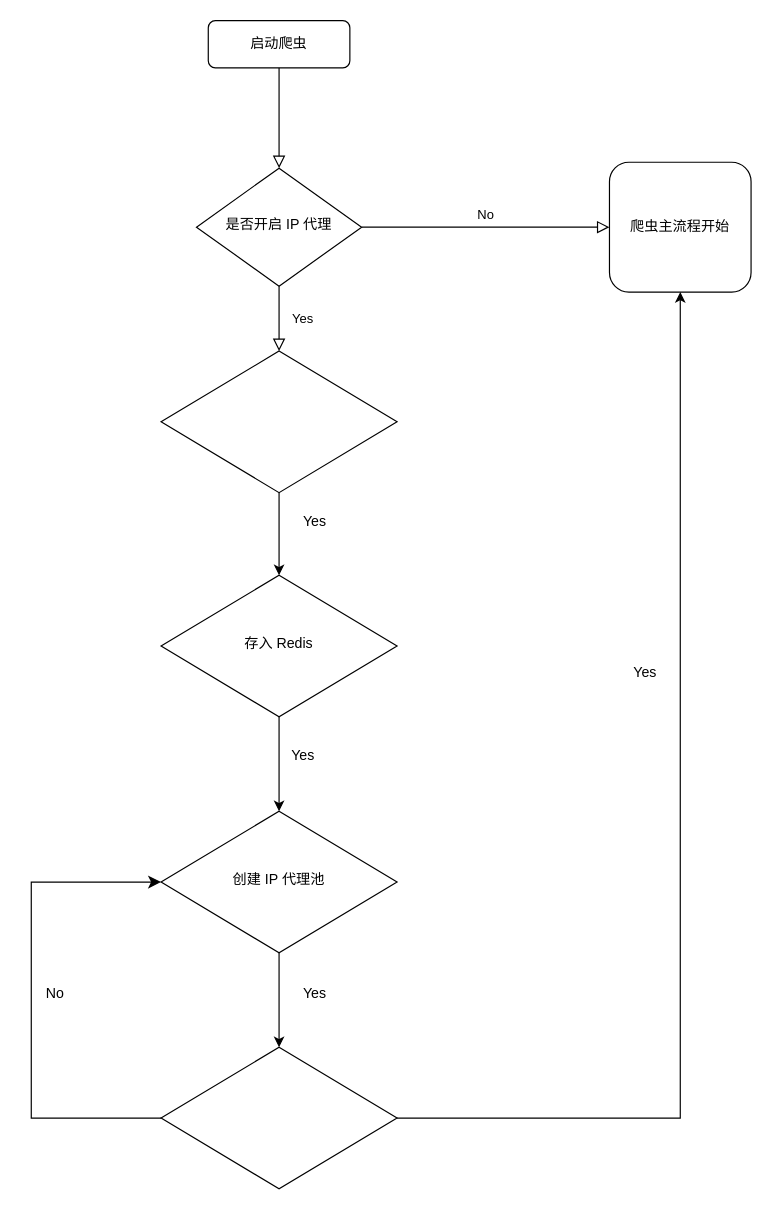
The diagram is 772 pixels wide and 1210 high, and some of its shapes have lost their labels. The shapes that lost their labels are listed below. From the top down, each one's centre as x and y in pixels, then its label:
point (278, 421): 从IP 代理商网站拉取 IP
point (278, 1117): 从代理池获取可用IP
